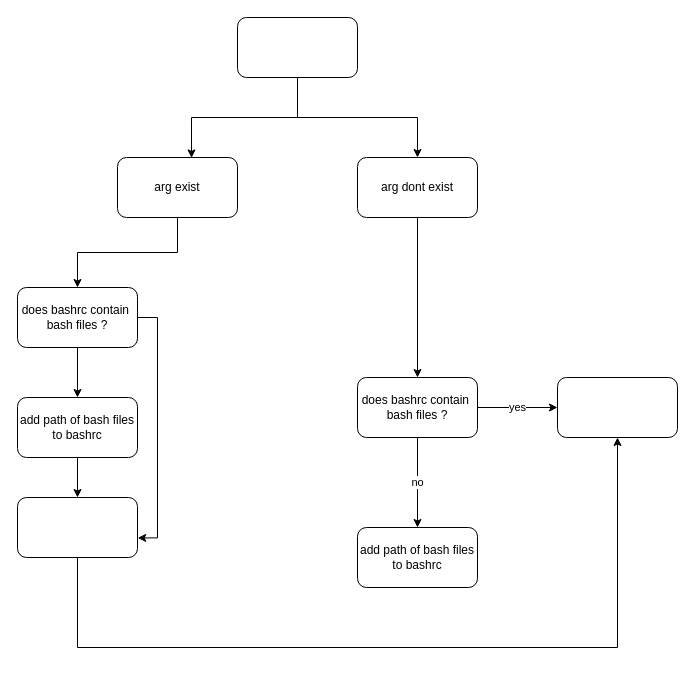
Some shapes in this 695 by 673 pixel diagram are drawn without their labels. The shapes that lost their labels are listed below. From the top down, each one's box as (x1, y1, x2, y2) in pixels, then its label:
(236, 16, 358, 78): Start
(556, 376, 678, 438): exit
(16, 496, 138, 558): add path to local bashfiles
